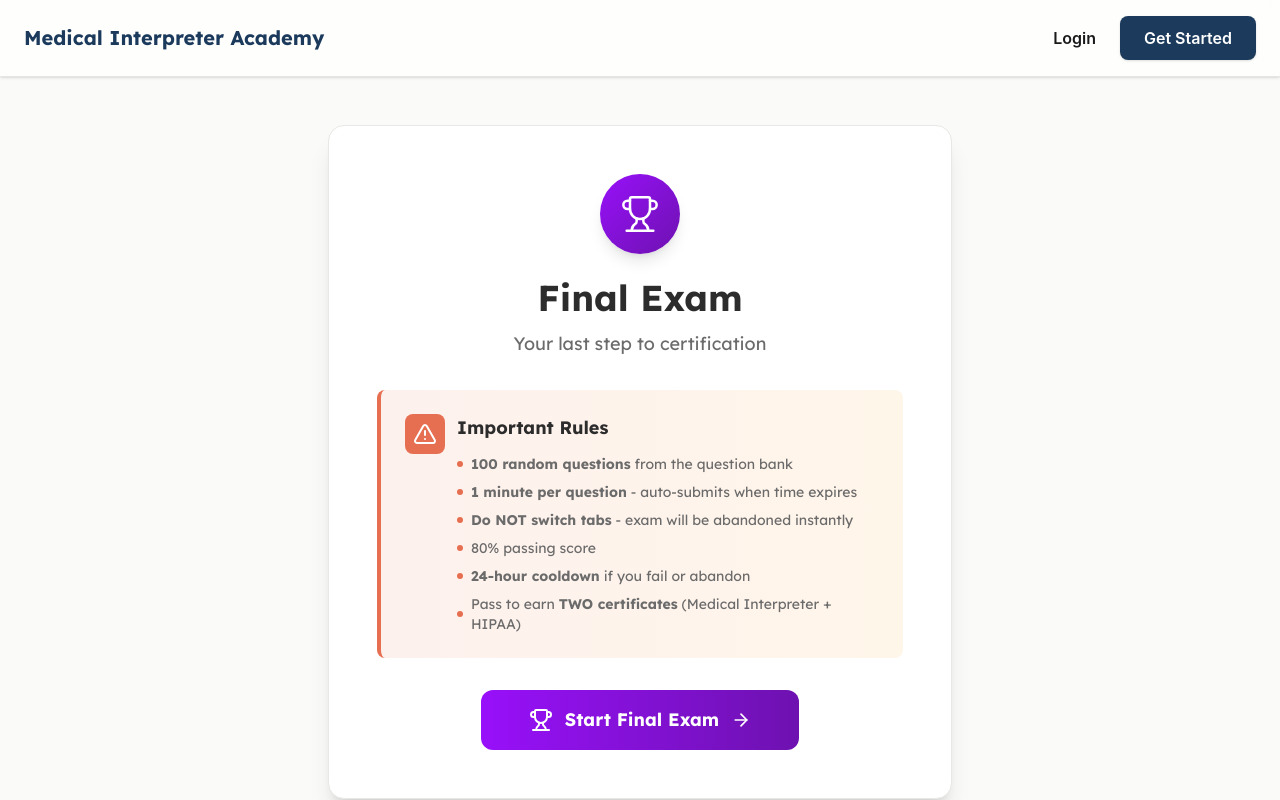
FinalExamView Page › Exam Header › should display progress counter
The image size is (1280, 800).
Click the button "Start Final Exam" at (640, 720), box [481, 690, 799, 750]
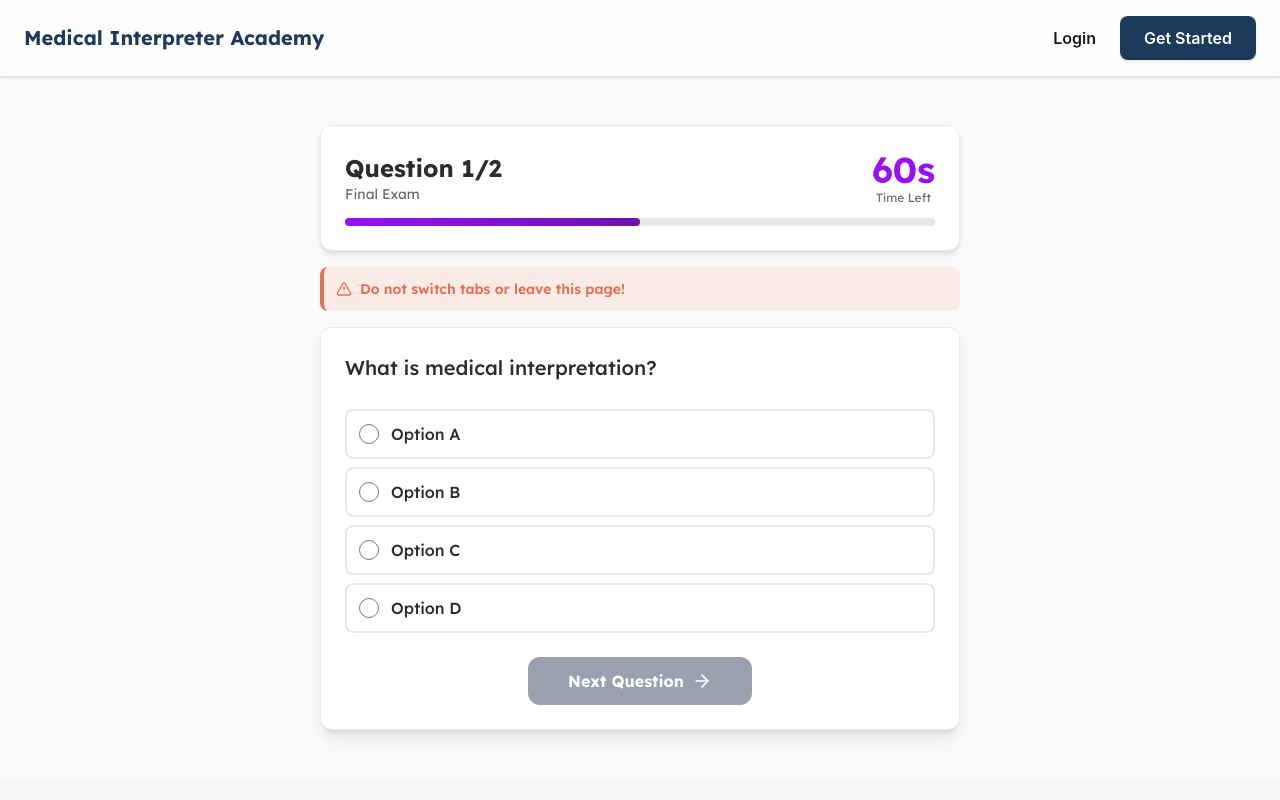
Result: the text "What is medical interpretation?" is shown at [345, 355, 657, 380]
Result: the heading "Question 1/2" is shown at [345, 152, 502, 184]
Result: the text "Time Left" is shown at [872, 190, 935, 206]
